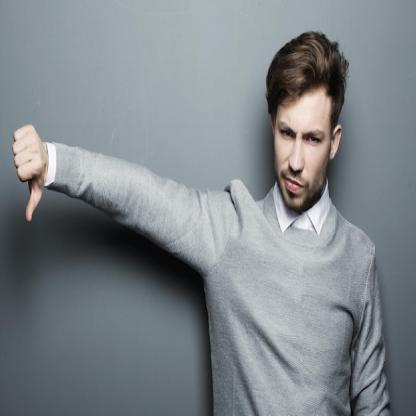thumb_down: (9, 120, 50, 226)
